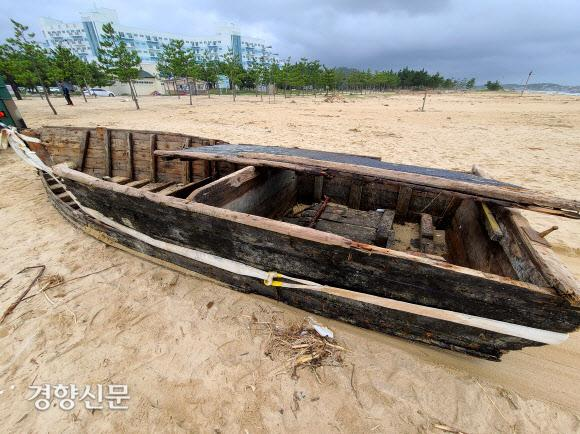Ship: (1, 122, 580, 367)
